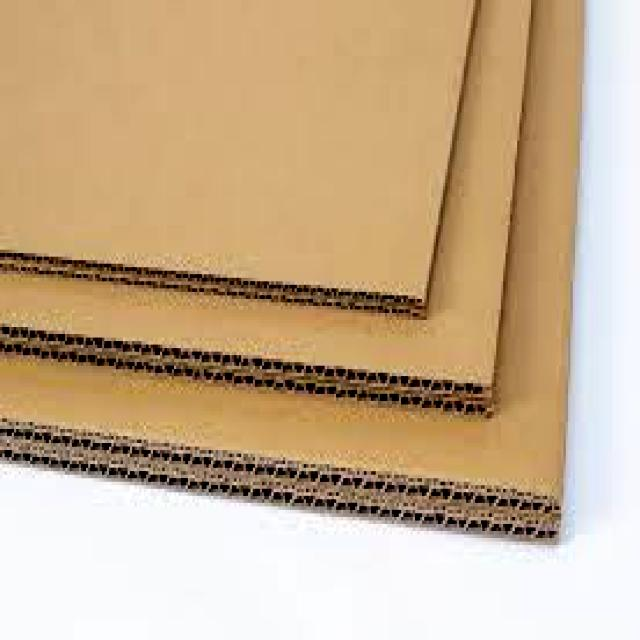Cardboard: (0, 0, 586, 550)
